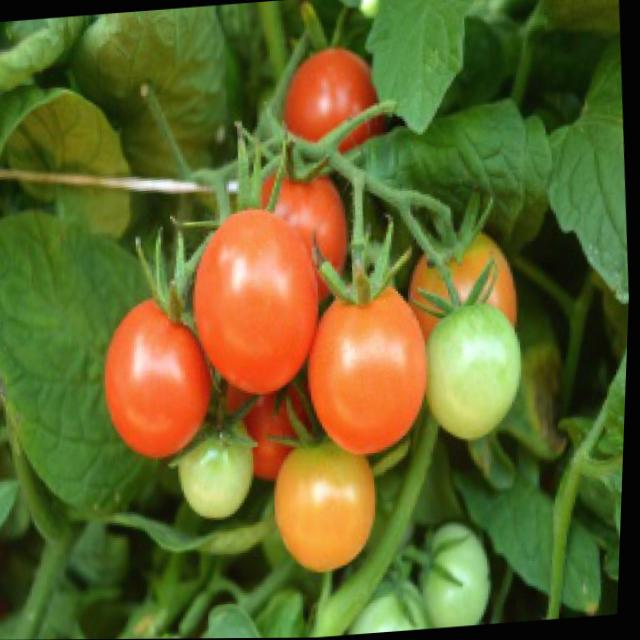tomato: (186, 205, 334, 401), (302, 284, 439, 463), (100, 295, 224, 466), (272, 438, 388, 581), (277, 48, 389, 155), (245, 369, 333, 488)
